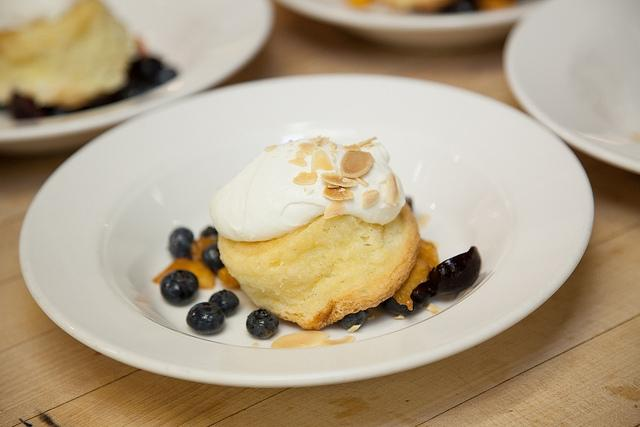almond: (340, 151, 374, 177), (321, 172, 358, 187), (312, 150, 335, 171), (324, 200, 347, 220), (323, 186, 354, 200), (386, 173, 399, 206), (362, 190, 380, 210), (294, 170, 318, 185), (298, 143, 318, 155), (358, 136, 378, 146), (288, 158, 308, 167), (354, 176, 370, 186), (315, 136, 330, 146), (264, 144, 278, 152), (328, 183, 340, 188)
blueberry: (427, 246, 482, 296), (380, 281, 431, 316), (160, 269, 200, 306), (186, 302, 225, 336), (246, 308, 280, 340), (11, 95, 52, 120), (128, 57, 162, 86), (208, 290, 240, 316), (168, 227, 194, 258), (202, 244, 224, 276), (340, 310, 366, 330), (458, 0, 480, 12), (201, 227, 218, 237)
